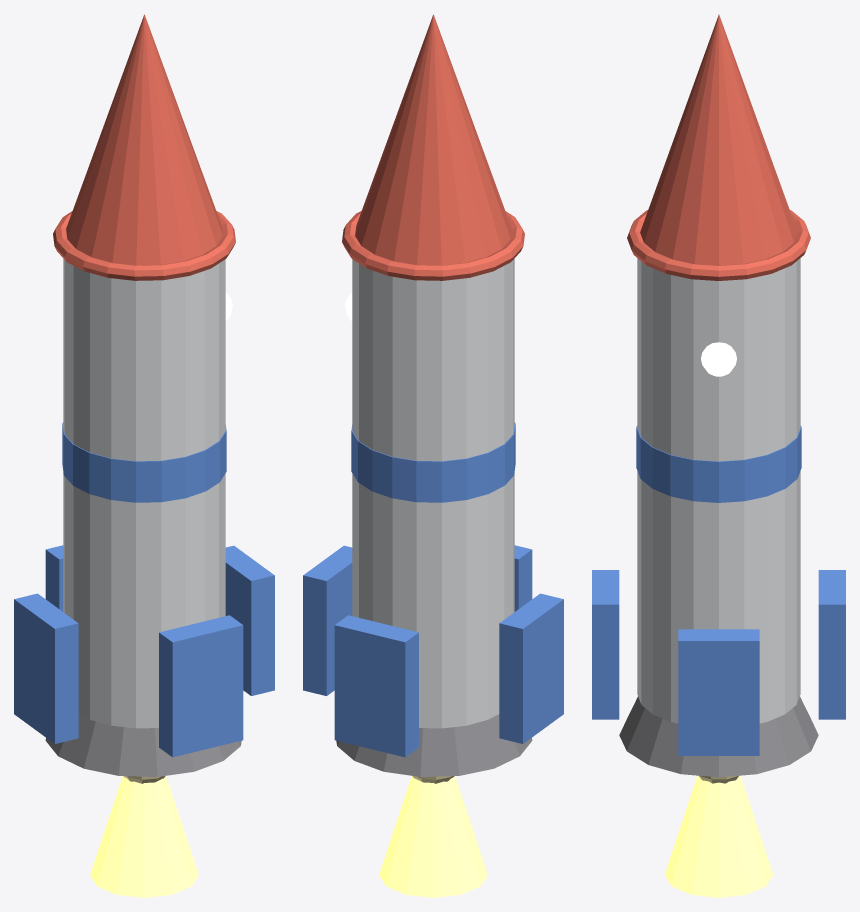
Rendered from rocket.fbx.
The picture shows the model from 3 angles, left to right: view 1: azimuth 30°, elevation 25°; view 2: azimuth 150°, elevation 25°; view 3: azimuth 270°, elevation 25°; orthographic projection.
Parts seen in each view (by area): view 1: RK_Body, RK_Nose, RK_Fin3, RK_Flame, RK_Fin2, RK_Stripe, RK_Nozzle, RK_Fin0, RK_NoseRing, RK_Fin1; view 2: RK_Body, RK_Nose, RK_Fin1, RK_Flame, RK_Fin2, RK_Stripe, RK_Nozzle, RK_Fin0, RK_NoseRing, RK_Fin3; view 3: RK_Body, RK_Nose, RK_Fin0, RK_Flame, RK_Nozzle, RK_Stripe, RK_Fin1, RK_Fin3, RK_NoseRing, RK_Window.
Boxes of the visible parts, x1=… form: RK_Body: x1=63, y1=258, x2=225, y2=728; RK_Nose: x1=66, y1=14, x2=222, y2=265; RK_Fin3: x1=159, y1=615, x2=243, y2=757; RK_Flame: x1=90, y1=776, x2=198, y2=897; RK_Fin2: x1=14, y1=593, x2=78, y2=743; RK_Stripe: x1=62, y1=422, x2=226, y2=502; RK_Nozzle: x1=45, y1=714, x2=241, y2=776; RK_Fin0: x1=225, y1=545, x2=274, y2=695; RK_NoseRing: x1=53, y1=211, x2=235, y2=280; RK_Fin1: x1=45, y1=545, x2=63, y2=611; RK_Body: x1=352, y1=258, x2=514, y2=728; RK_Nose: x1=355, y1=14, x2=511, y2=265; RK_Fin1: x1=334, y1=615, x2=418, y2=757; RK_Flame: x1=379, y1=776, x2=487, y2=897; RK_Fin2: x1=499, y1=593, x2=563, y2=743; RK_Stripe: x1=351, y1=422, x2=515, y2=502; RK_Nozzle: x1=336, y1=714, x2=532, y2=776; RK_Fin0: x1=303, y1=545, x2=352, y2=695; RK_NoseRing: x1=342, y1=211, x2=524, y2=280; RK_Fin3: x1=514, y1=545, x2=532, y2=611; RK_Body: x1=637, y1=258, x2=800, y2=723; RK_Nose: x1=640, y1=14, x2=797, y2=265; RK_Fin0: x1=678, y1=629, x2=759, y2=755; RK_Flame: x1=664, y1=775, x2=773, y2=897; RK_Nozzle: x1=619, y1=696, x2=818, y2=777; RK_Stripe: x1=636, y1=425, x2=801, y2=502; RK_Fin1: x1=818, y1=570, x2=845, y2=719; RK_Fin3: x1=592, y1=570, x2=619, y2=719; RK_NoseRing: x1=627, y1=210, x2=810, y2=280; RK_Window: x1=701, y1=342, x2=736, y2=376.
Size of the model in its own units: 56 by 210 by 56.
